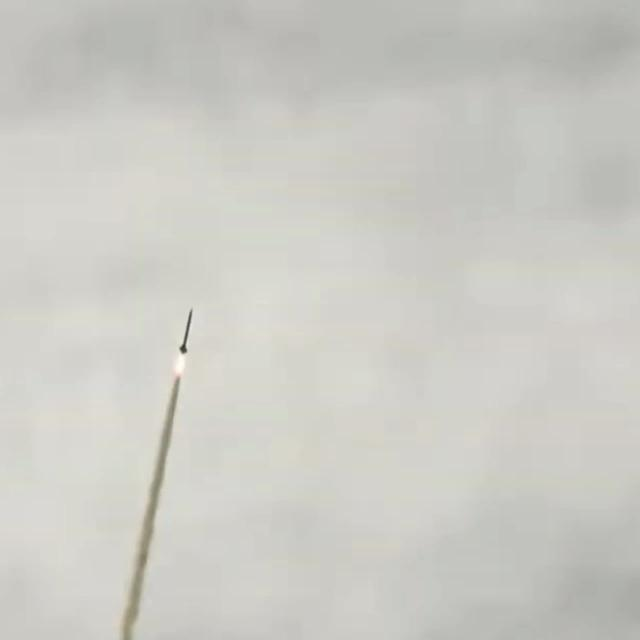smoke_trail_with_rocket: (118, 310, 193, 640)
